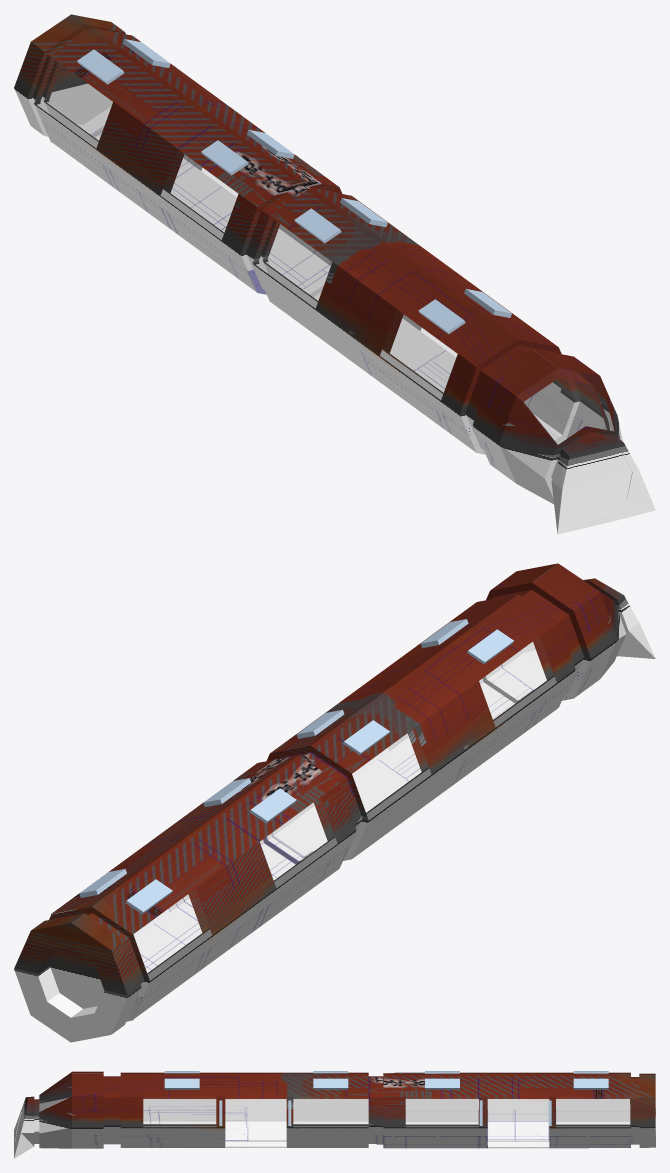
The model's file is Train.fbx.
The picture shows the model from 3 angles, top to bottom: view 1: azimuth 30°, elevation 25°; view 2: azimuth 150°, elevation 25°; view 3: azimuth 270°, elevation 25°; orthographic projection. The views are drawn at different scales.
Visible parts, largest first — view 1: polySurface46, polySurface44, polySurface45, polySurface47, polySurface43, polySurface50, polySurface51, polySurface49, polySurface48; view 2: polySurface44, polySurface46, polySurface47, polySurface45, polySurface50, polySurface51, polySurface48, polySurface49; view 3: polySurface46, polySurface44, polySurface45, polySurface47, polySurface35, polySurface39, polySurface40, polySurface36, polySurface43.
Part boxes in pixels (bbox=[...]): polySurface46: bbox=[34, 28, 342, 294]; polySurface44: bbox=[252, 188, 561, 454]; polySurface45: bbox=[465, 345, 655, 534]; polySurface47: bbox=[14, 14, 125, 142]; polySurface43: bbox=[569, 442, 632, 515]; polySurface50: bbox=[201, 140, 248, 175]; polySurface51: bbox=[77, 49, 124, 84]; polySurface49: bbox=[294, 208, 341, 243]; polySurface48: bbox=[418, 299, 465, 334]; polySurface44: bbox=[266, 594, 575, 860]; polySurface46: bbox=[51, 755, 356, 1021]; polySurface47: bbox=[14, 907, 149, 1042]; polySurface45: bbox=[486, 563, 655, 700]; polySurface50: bbox=[249, 788, 296, 823]; polySurface51: bbox=[125, 879, 172, 914]; polySurface48: bbox=[467, 629, 513, 664]; polySurface49: bbox=[343, 720, 389, 754]; polySurface46: bbox=[376, 1072, 630, 1148]; polySurface44: bbox=[120, 1072, 376, 1147]; polySurface45: bbox=[14, 1071, 120, 1158]; polySurface47: bbox=[630, 1073, 655, 1147]; polySurface35: bbox=[573, 1078, 608, 1089]; polySurface39: bbox=[313, 1078, 348, 1089]; polySurface40: bbox=[164, 1078, 199, 1089]; polySurface36: bbox=[425, 1078, 459, 1089]; polySurface43: bbox=[15, 1101, 26, 1141].
Size of the model in its own units: 3.62 by 3.62 by 28.4.
